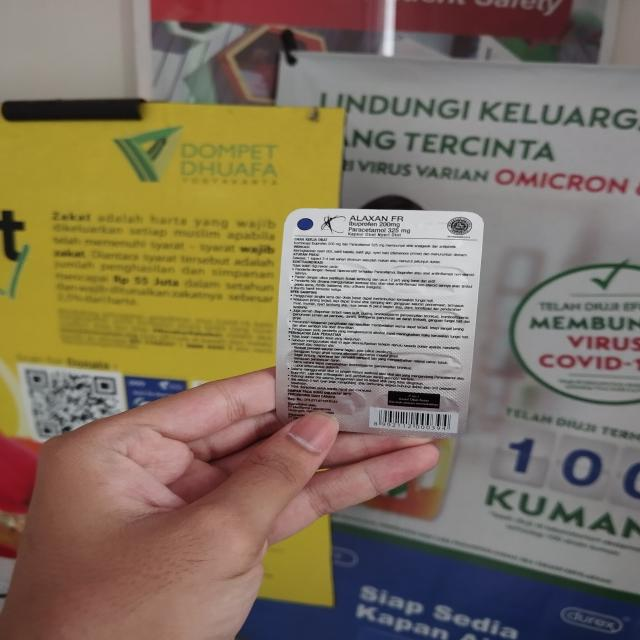B3: (277, 210, 484, 436)
